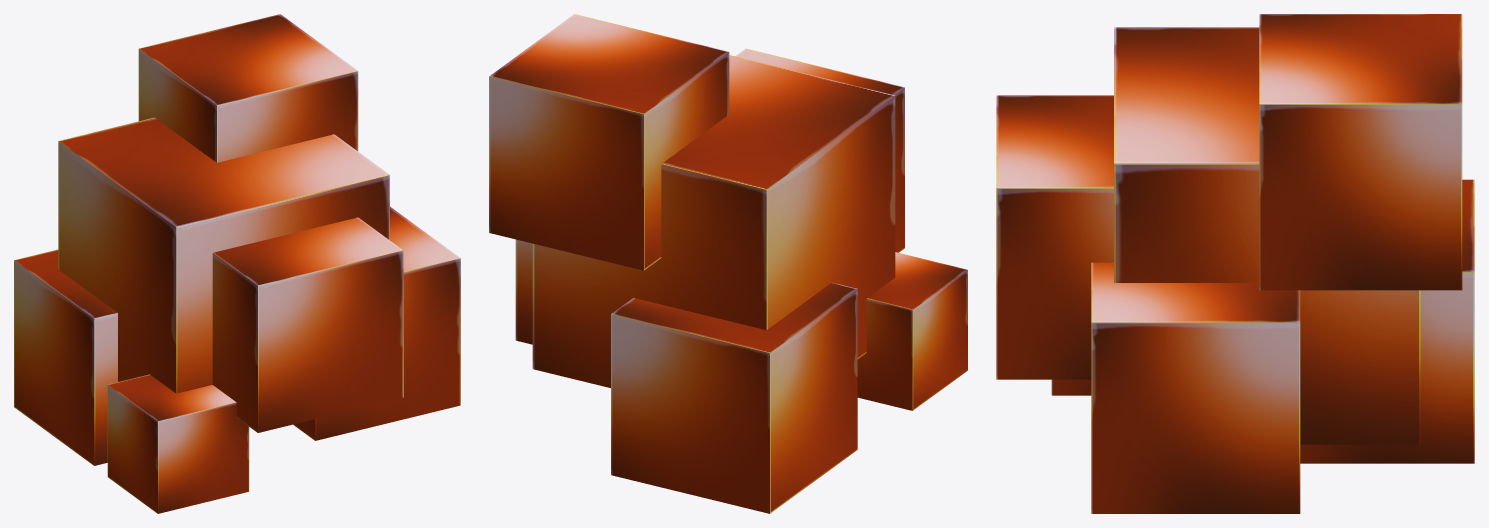
The model's file is copper_chunk.fbx.
3 views of the same model, side by side, from view 1: azimuth 30°, elevation 25°; view 2: azimuth 150°, elevation 25°; view 3: azimuth 270°, elevation 25° (orthographic). The views are drawn at different scales.
Parts seen in each view (by area): view 1: Icosphere.006; view 2: Icosphere.006; view 3: Icosphere.006.
Boxes of the visible parts, left/top/right/bottom form: Icosphere.006: left=14, top=14, right=460, bottom=513; Icosphere.006: left=489, top=14, right=967, bottom=513; Icosphere.006: left=996, top=14, right=1474, bottom=513.
Bounding box in the file's own units: 100 × 100 × 100.
